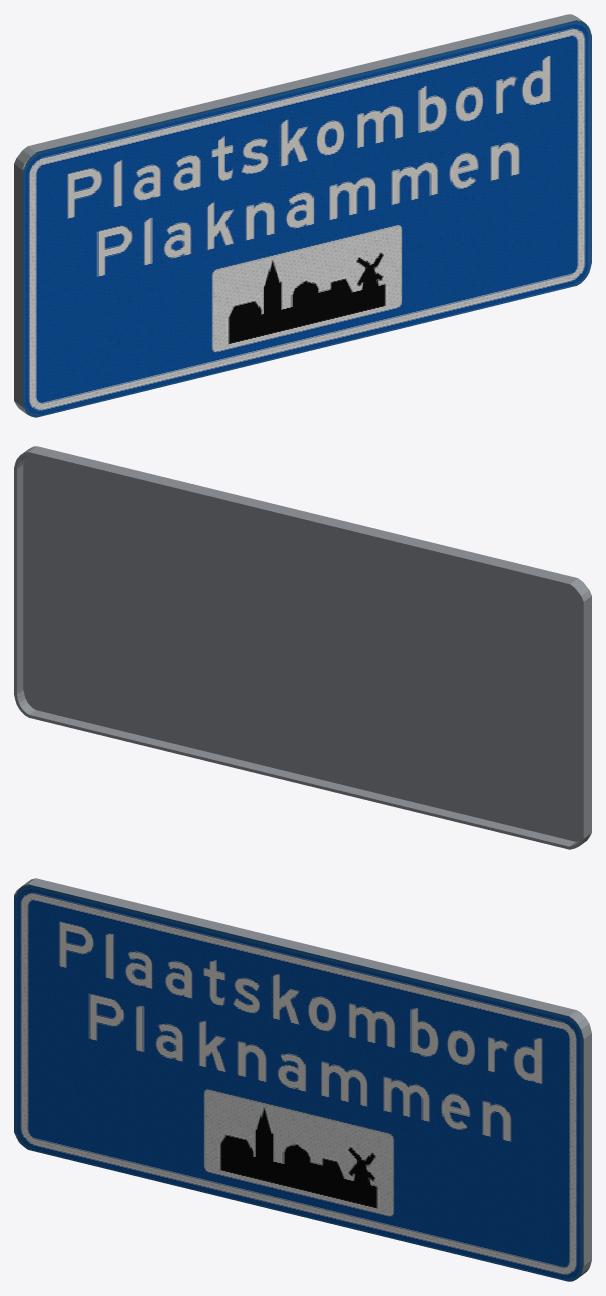
The picture shows the model from 3 angles, top to bottom: view 1: azimuth 30°, elevation 25°; view 2: azimuth 150°, elevation 25°; view 3: azimuth 330°, elevation 25°; orthographic projection.
Visible parts, largest first — view 1: cat_0658f1005f9237ae; view 2: cat_0658f1005f9237ae; view 3: cat_0658f1005f9237ae.
Part boxes in pixels (left/top/right/bottom): cat_0658f1005f9237ae: left=14, top=14, right=591, bottom=417; cat_0658f1005f9237ae: left=14, top=446, right=591, bottom=849; cat_0658f1005f9237ae: left=14, top=878, right=591, bottom=1281.
Bounding box in the file's own units: 0.6 × 0.015 × 0.2672.
2 materials, 1 textured.
